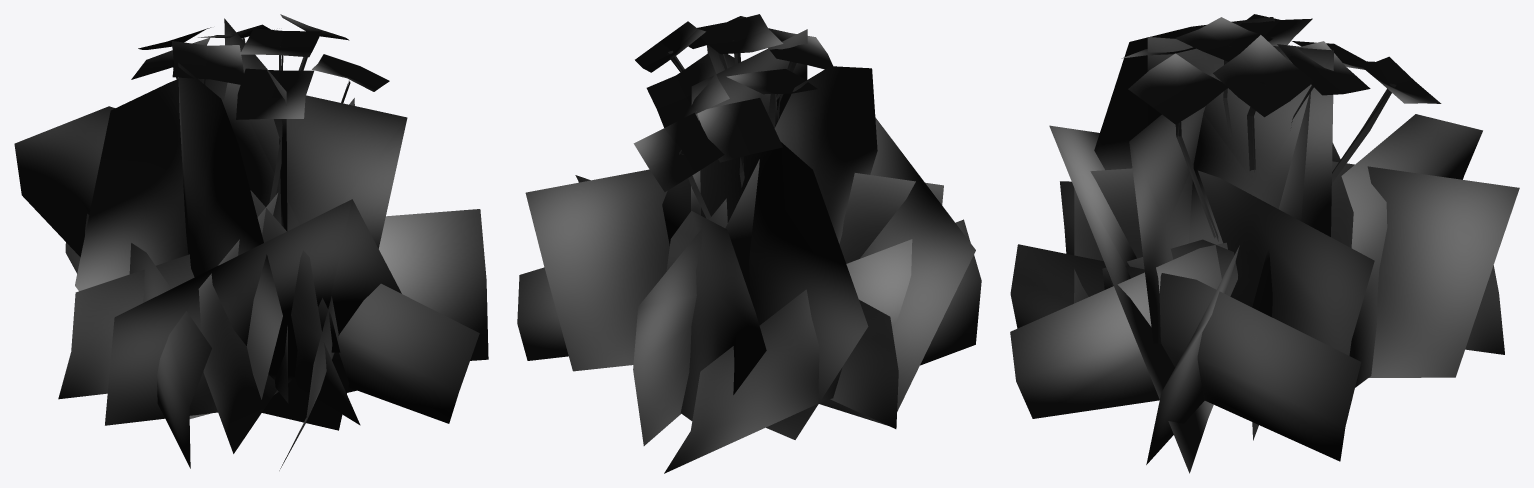
File: SM_GrassFlower.fbx
3 views of the same model, side by side, from view 1: azimuth 30°, elevation 25°; view 2: azimuth 150°, elevation 25°; view 3: azimuth 270°, elevation 25° (orthographic). The views are drawn at different scales.
Parts seen in each view (by area): view 1: SM_GrassFlower; view 2: SM_GrassFlower; view 3: SM_GrassFlower.
Boxes of the visible parts, bbox=[...] form: SM_GrassFlower: bbox=[14, 14, 488, 470]; SM_GrassFlower: bbox=[517, 14, 981, 473]; SM_GrassFlower: bbox=[1010, 14, 1519, 473].
Size of the model in its own units: 101 by 111 by 96.84.
Materials: 1 (1 with a texture image).
